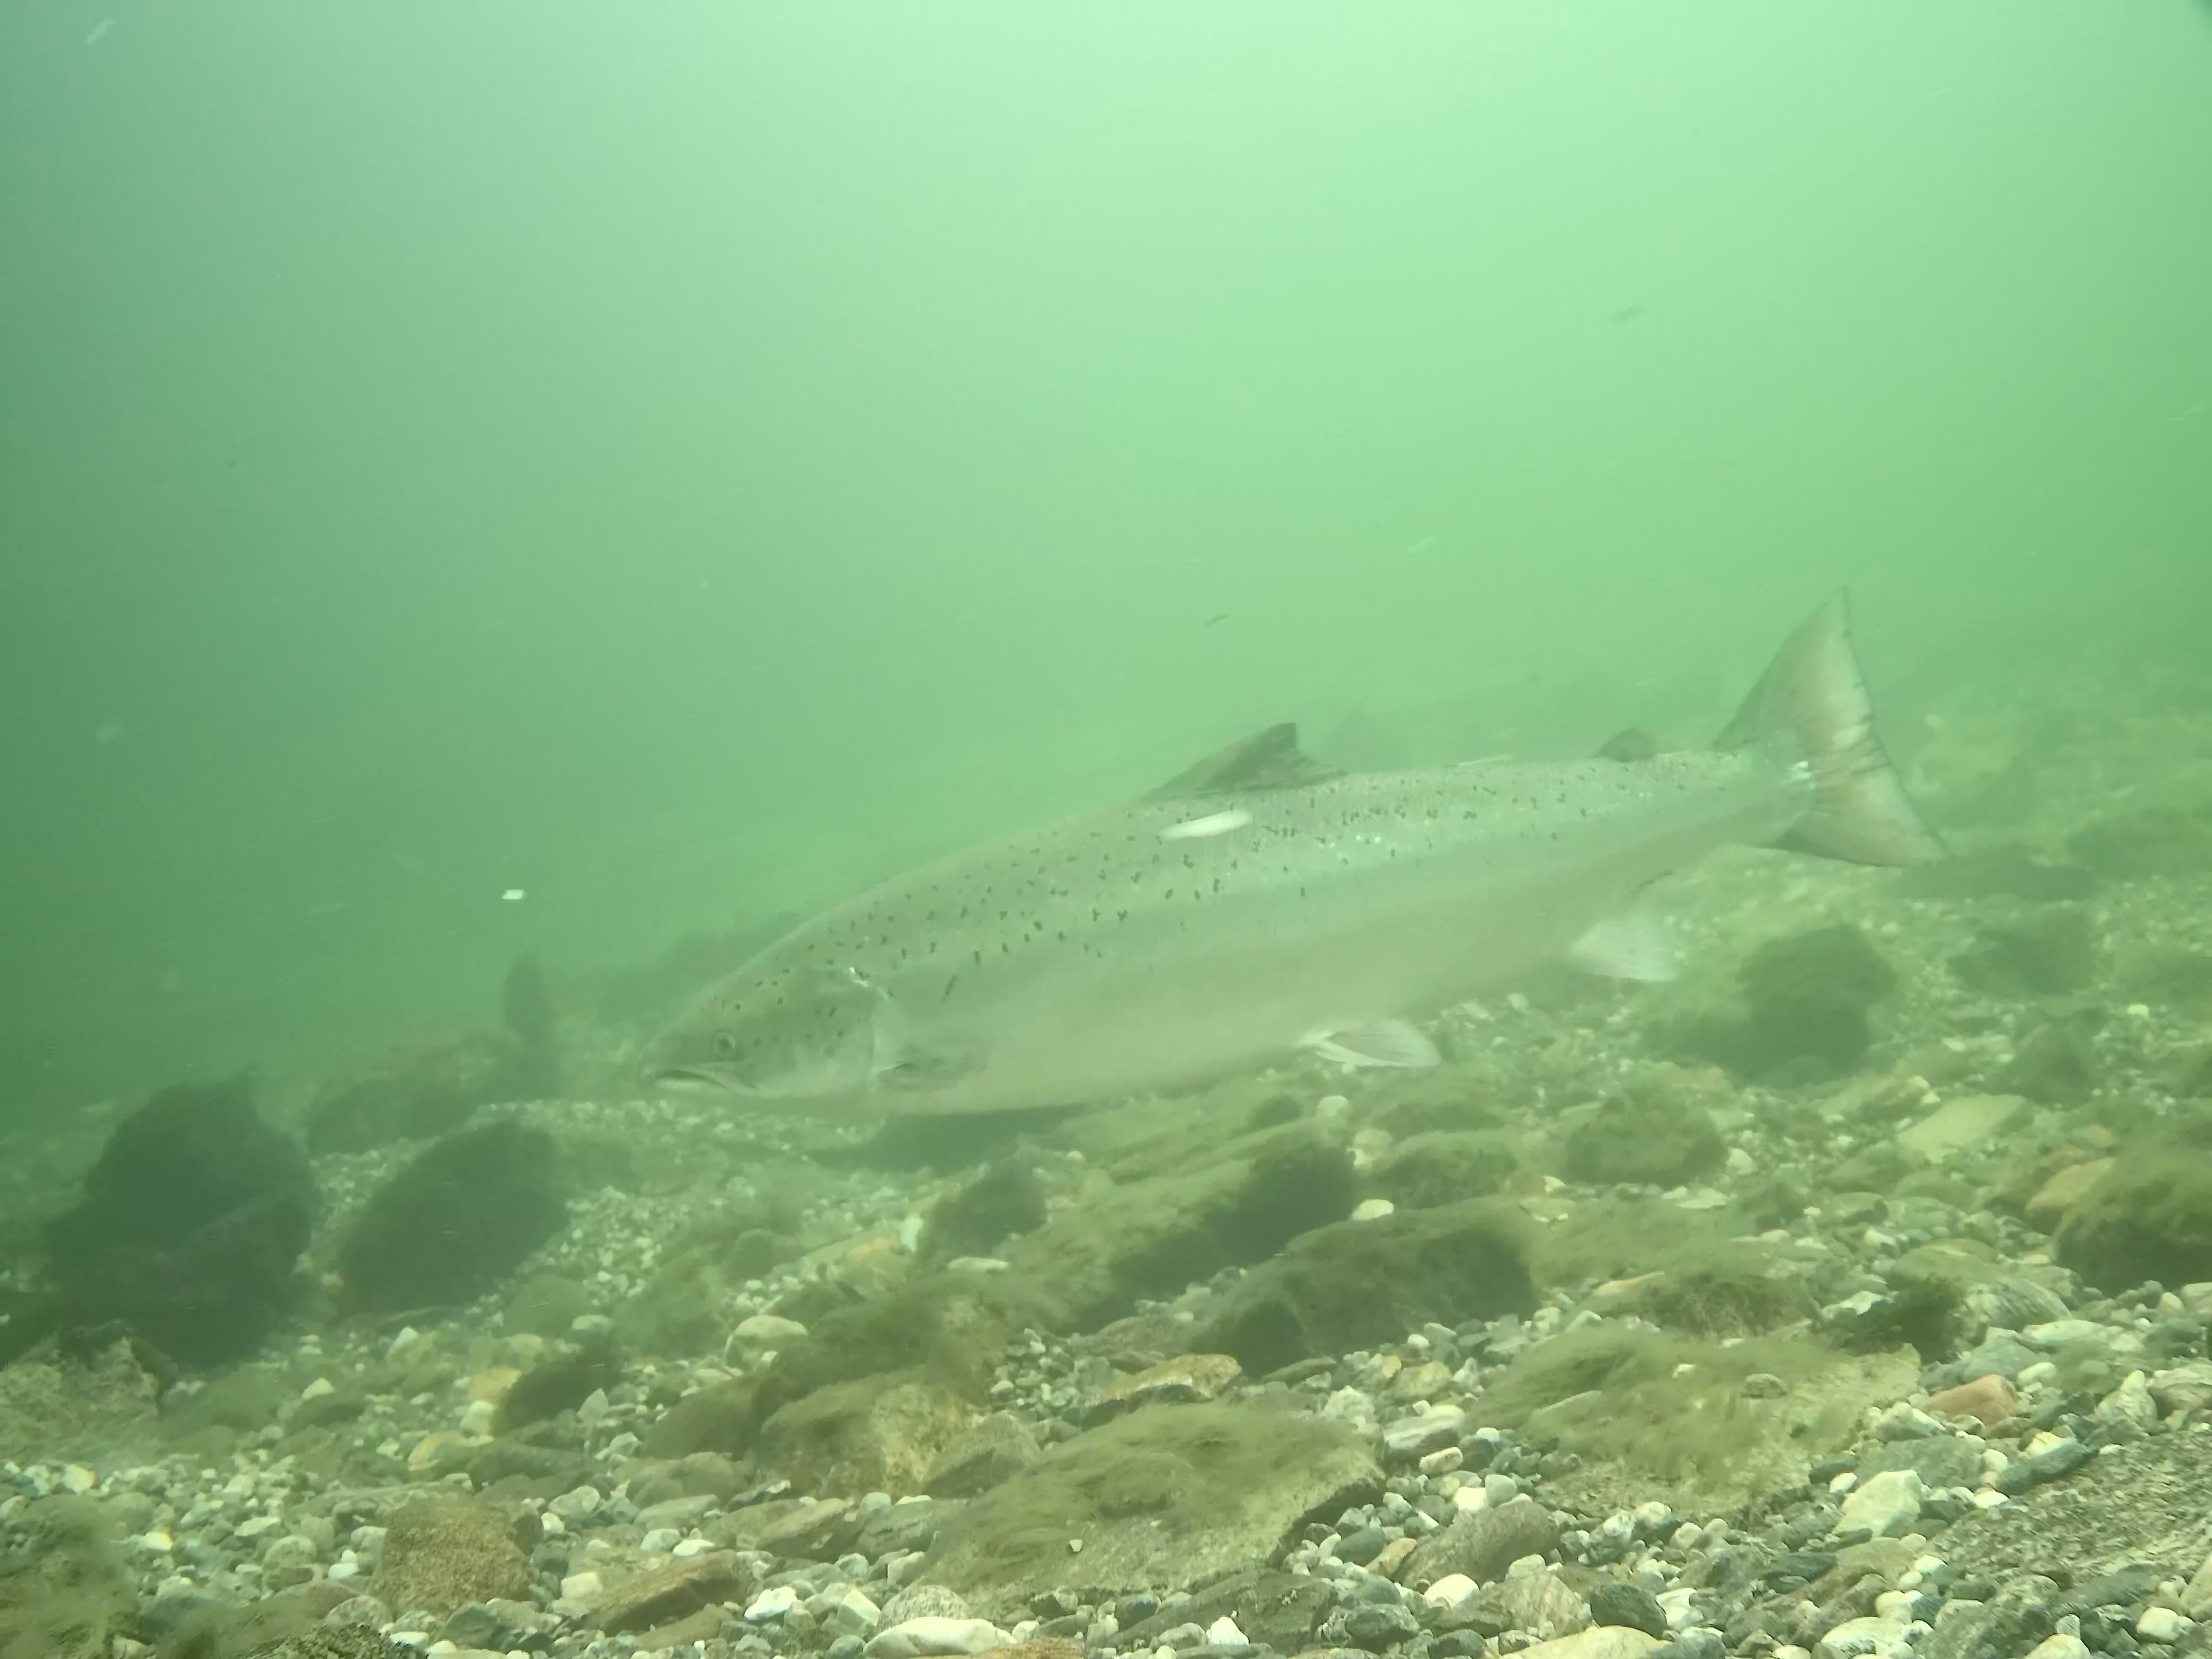salmon: (631, 582, 1951, 1126)
